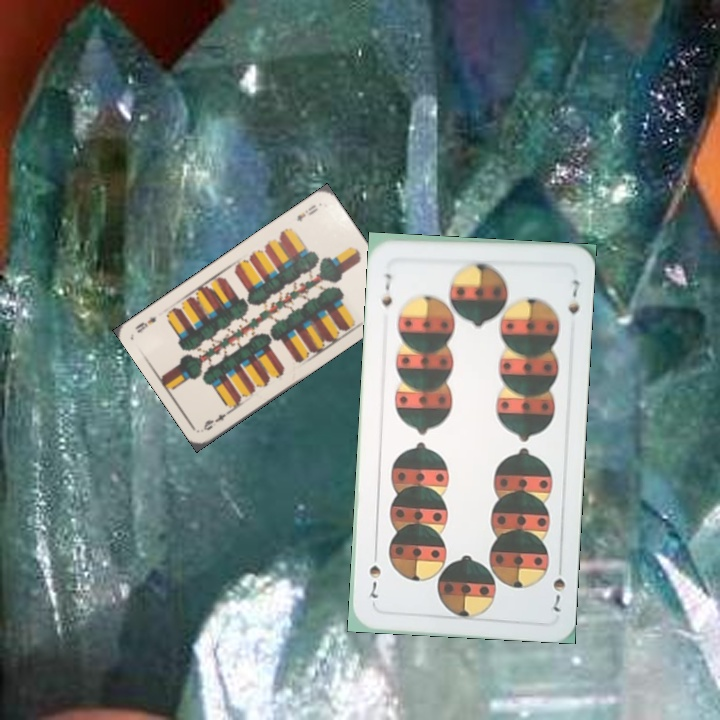E9: (199, 405, 235, 433), (292, 200, 321, 224)
S7: (548, 573, 568, 615), (378, 270, 395, 310)
